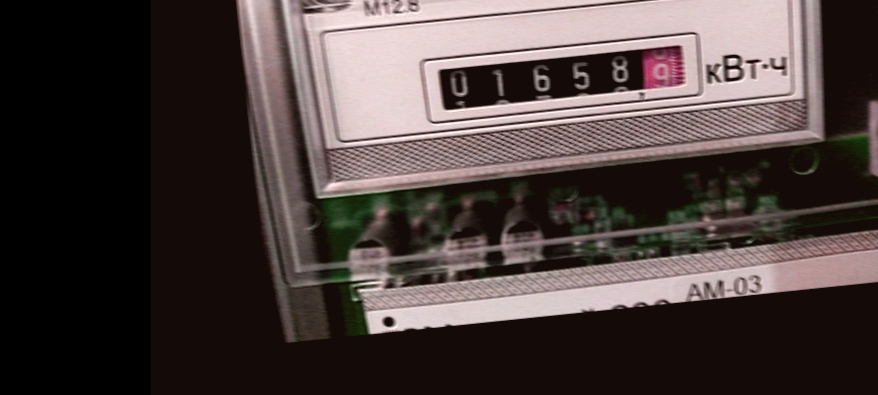0: (448, 66, 472, 100)
1: (492, 67, 508, 99)
5: (572, 59, 594, 93)
6: (532, 62, 555, 95)
8: (610, 53, 632, 87)
9: (651, 61, 672, 89)
screen: (413, 22, 710, 131)
